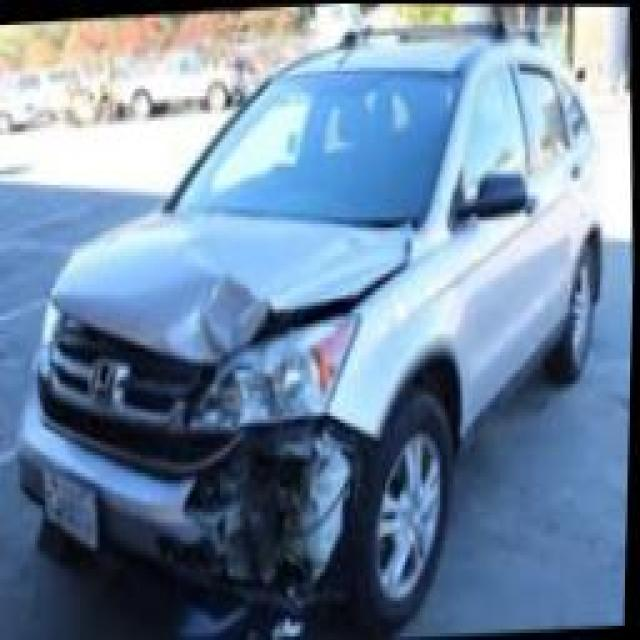Bonnet: (44, 186, 432, 364)
Bumper: (0, 412, 385, 611)
